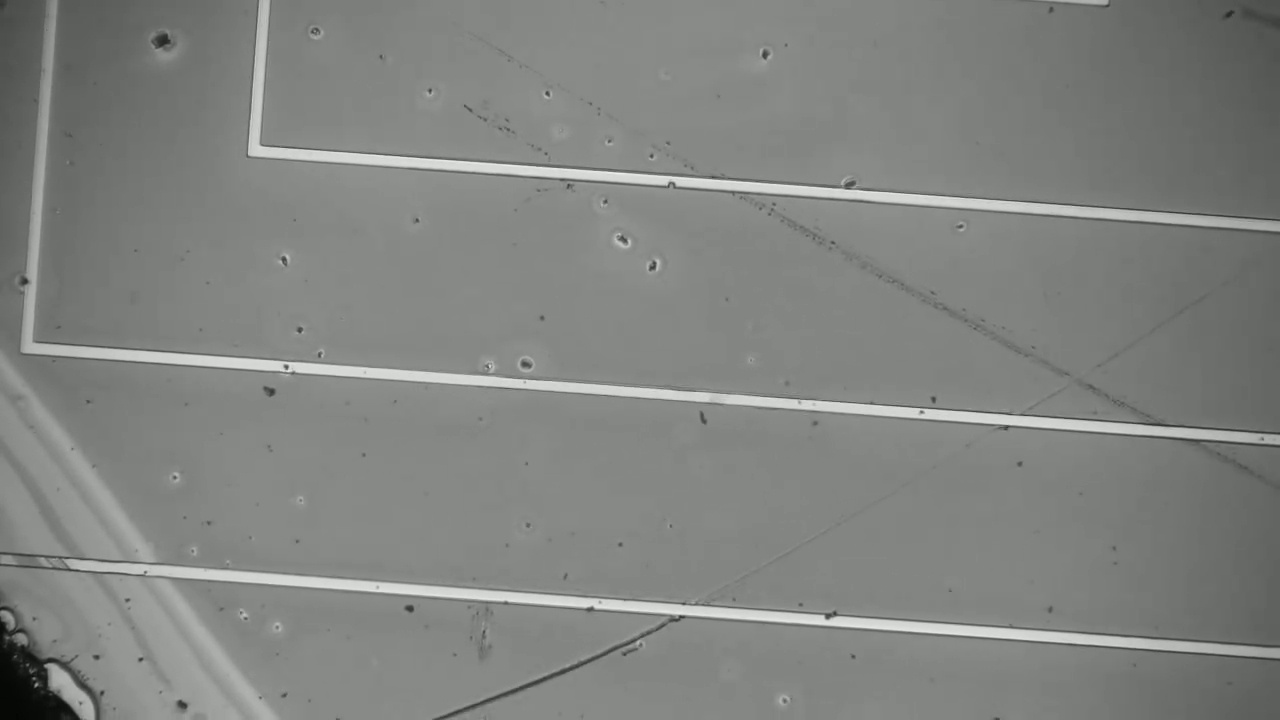edge_bite: (655, 169, 685, 195)
gray_line: (0, 538, 91, 587)
scratch: (426, 251, 1267, 716), (463, 28, 1272, 487)
stains_enbedded: (6, 261, 46, 301), (810, 598, 842, 636)
